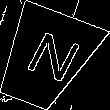N_SW: (12, 28, 79, 89)
